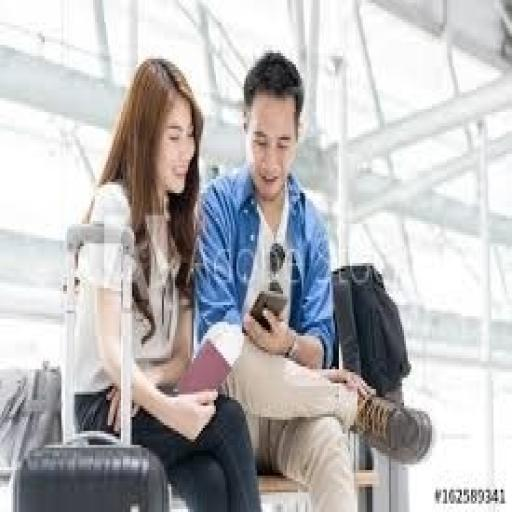sitting: (190, 48, 434, 509), (65, 53, 263, 509)
